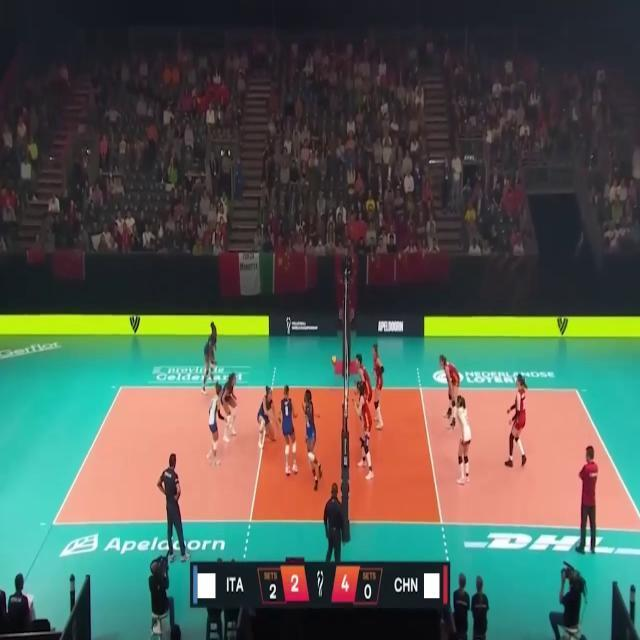volleyball: (330, 355, 338, 365)
